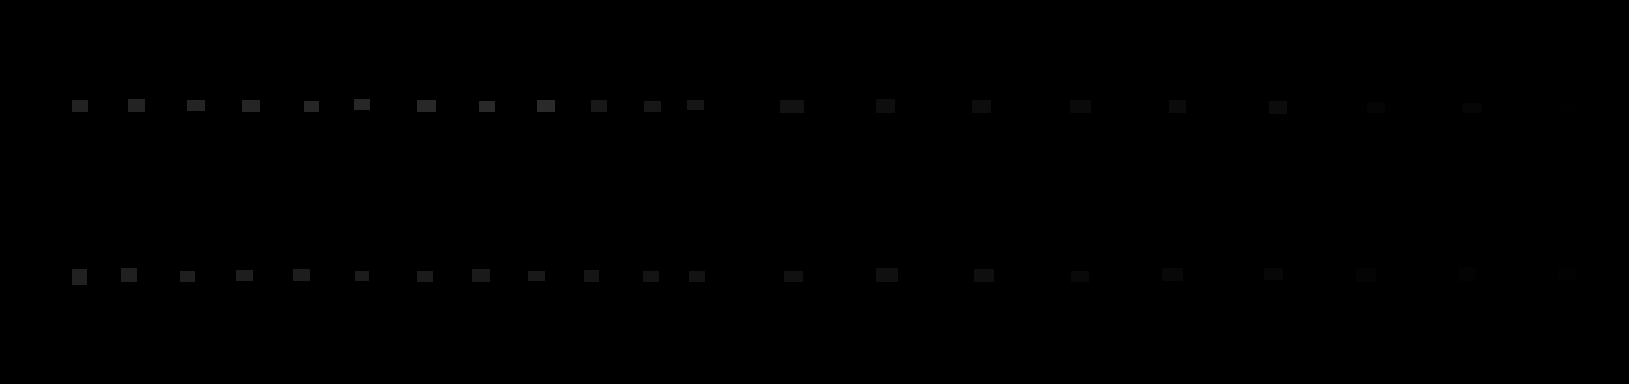light: (780, 100, 804, 113), (876, 268, 898, 282), (1161, 268, 1183, 281), (1356, 268, 1376, 282), (1070, 100, 1091, 113), (1557, 267, 1576, 281), (1458, 267, 1476, 281), (876, 99, 894, 113), (974, 269, 994, 282), (72, 269, 87, 285), (1269, 101, 1287, 114), (972, 100, 991, 113), (472, 269, 490, 282), (417, 100, 436, 112), (121, 268, 137, 282), (1169, 100, 1186, 113), (128, 99, 145, 112), (1264, 268, 1283, 280), (242, 100, 260, 112), (537, 100, 555, 112), (1462, 103, 1483, 113), (784, 271, 803, 282), (293, 269, 310, 281), (72, 100, 88, 112), (1559, 103, 1577, 114), (1367, 102, 1385, 113), (1071, 271, 1089, 282), (236, 270, 253, 281), (187, 100, 205, 111), (584, 270, 599, 282), (591, 100, 607, 112), (689, 271, 705, 282), (644, 101, 661, 112), (417, 271, 433, 282), (687, 100, 704, 110), (528, 271, 545, 281), (643, 271, 659, 282), (180, 271, 195, 282), (354, 99, 370, 110), (479, 101, 495, 112), (304, 101, 319, 112), (355, 271, 369, 281)
